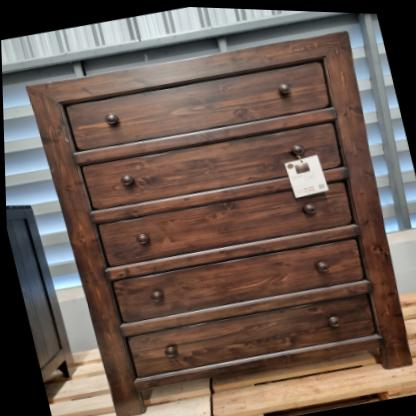Sideboard: (12, 5, 416, 416)
